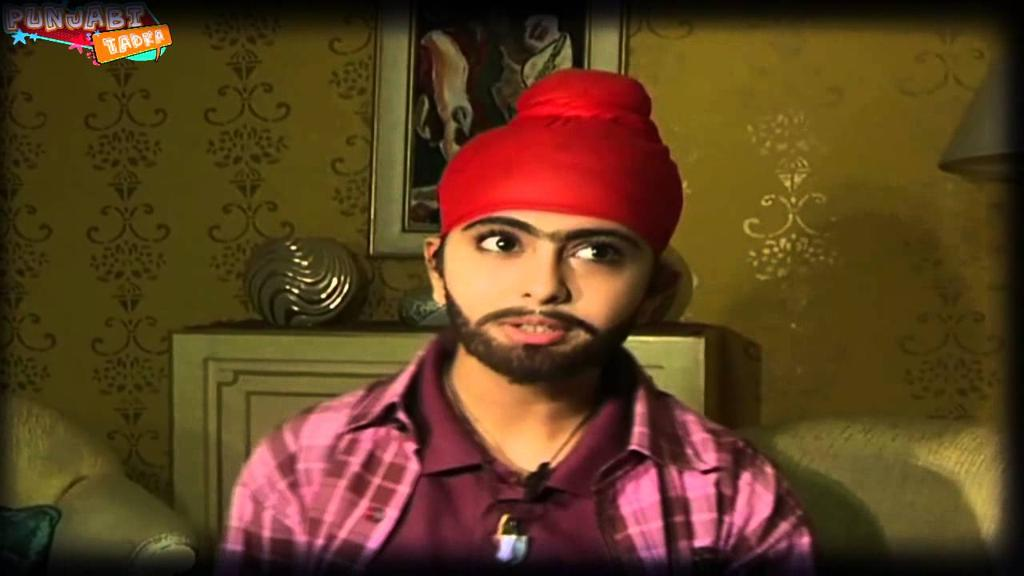face: (450, 176, 644, 374)
